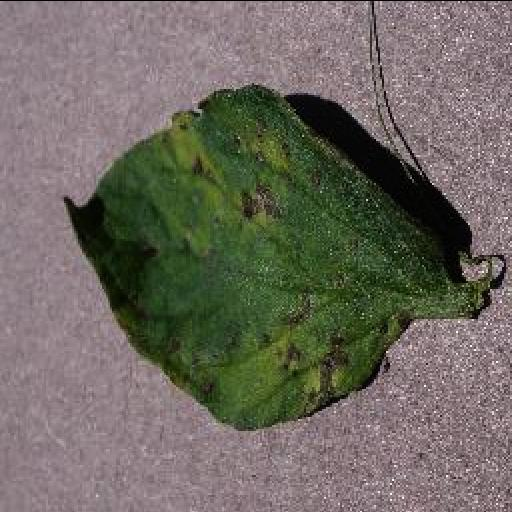disease_tomato: (61, 85, 443, 425)
